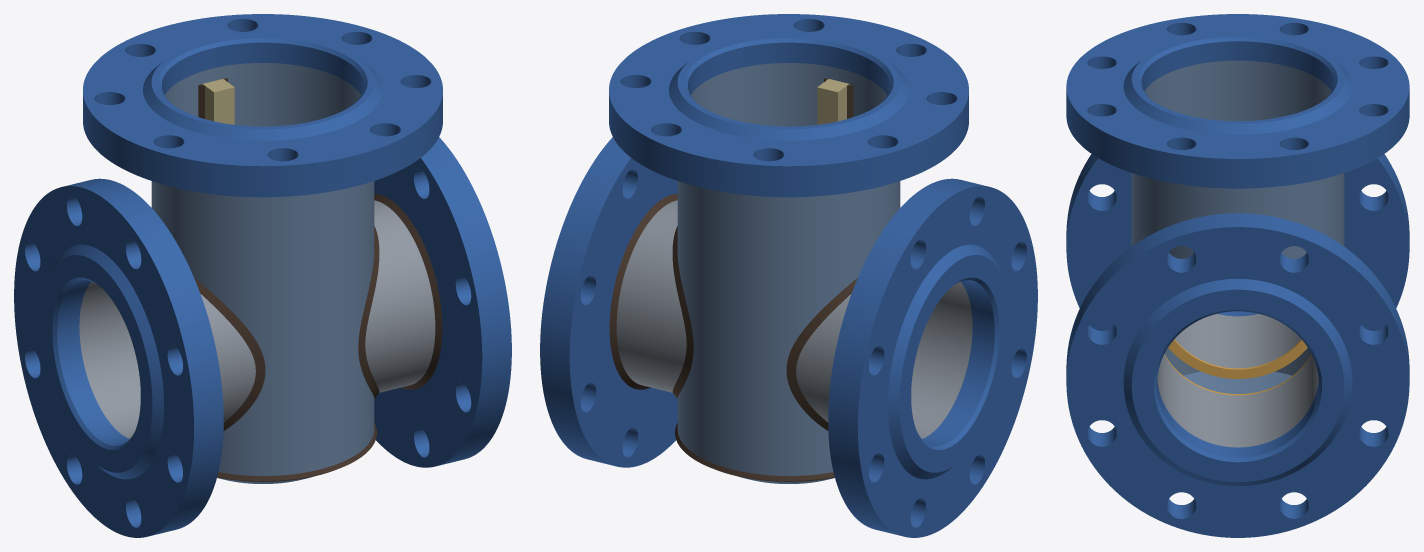
The model's file is korpus.glb.
The picture shows the model from 3 angles, left to right: view 1: azimuth 30°, elevation 25°; view 2: azimuth 150°, elevation 25°; view 3: azimuth 270°, elevation 25°; orthographic projection. The views are drawn at different scales.
Visible parts, largest first — view 1: 03_flanec_patrubka_L, 02_stakan, 04_flanec_stakana, 03_flanec_patrubka_R, 01_patrubok_R, 01_patrubok_L, shov_2_3_patrubok_flanec_R, shov_2_4_patrubok_stakan_L, 05_napravlyayushchaya_1, shov_2_5_patrubok_stakan_R, shov_3_dno_stakan; view 2: 03_flanec_patrubka_L, 02_stakan, 04_flanec_stakana, 03_flanec_patrubka_R, 01_patrubok_R, 01_patrubok_L, shov_2_3_patrubok_flanec_R, shov_2_4_patrubok_stakan_L, 05_napravlyayushchaya_2, shov_2_5_patrubok_stakan_R, shov_3_dno_stakan; view 3: 03_flanec_patrubka_R, 04_flanec_stakana, 02_stakan, 03_flanec_patrubka_L, 01_patrubok_R, 01_patrubok_L, naplavka_sedla_L, 06_dno.
Part boxes in pixels (x1,y1,x2,y2): 03_flanec_patrubka_L: (14, 178, 223, 537); 02_stakan: (151, 63, 374, 475); 04_flanec_stakana: (83, 14, 442, 197); 03_flanec_patrubka_R: (374, 137, 511, 467); 01_patrubok_R: (365, 200, 435, 392); 01_patrubok_L: (79, 281, 255, 438); shov_2_3_patrubok_flanec_R: (374, 193, 442, 389); shov_2_4_patrubok_stakan_L: (194, 278, 265, 430); 05_napravlyayushchaya_1: (203, 79, 234, 124); shov_2_5_patrubok_stakan_R: (358, 226, 379, 398); shov_3_dno_stakan: (217, 423, 376, 481); 03_flanec_patrubka_L: (828, 178, 1037, 537); 02_stakan: (677, 63, 900, 475); 04_flanec_stakana: (609, 14, 968, 197); 03_flanec_patrubka_R: (540, 137, 677, 467); 01_patrubok_R: (616, 200, 686, 392); 01_patrubok_L: (796, 281, 972, 438); shov_2_3_patrubok_flanec_R: (609, 193, 677, 389); shov_2_4_patrubok_stakan_L: (786, 278, 857, 430); 05_napravlyayushchaya_2: (817, 79, 848, 124); shov_2_5_patrubok_stakan_R: (672, 226, 693, 398); shov_3_dno_stakan: (675, 423, 834, 481); 03_flanec_patrubka_R: (1066, 213, 1409, 537); 04_flanec_stakana: (1066, 14, 1409, 188); 02_stakan: (1131, 60, 1344, 375); 03_flanec_patrubka_L: (1066, 154, 1409, 330); 01_patrubok_R: (1157, 355, 1318, 447); 01_patrubok_L: (1175, 314, 1300, 368); naplavka_sedla_L: (1168, 339, 1307, 378); 06_dno: (1183, 371, 1292, 393).
Size of the model in its own units: 224 by 260 by 210.
